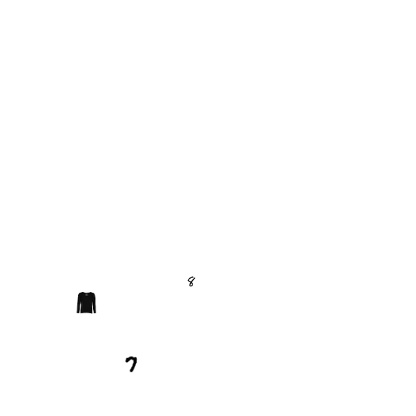7: (121, 351, 143, 373)
8: (184, 274, 198, 288)
Pullover: (75, 292, 97, 314)
